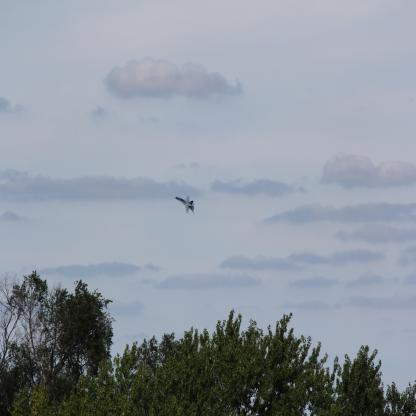aircraft: (176, 194, 195, 215)
